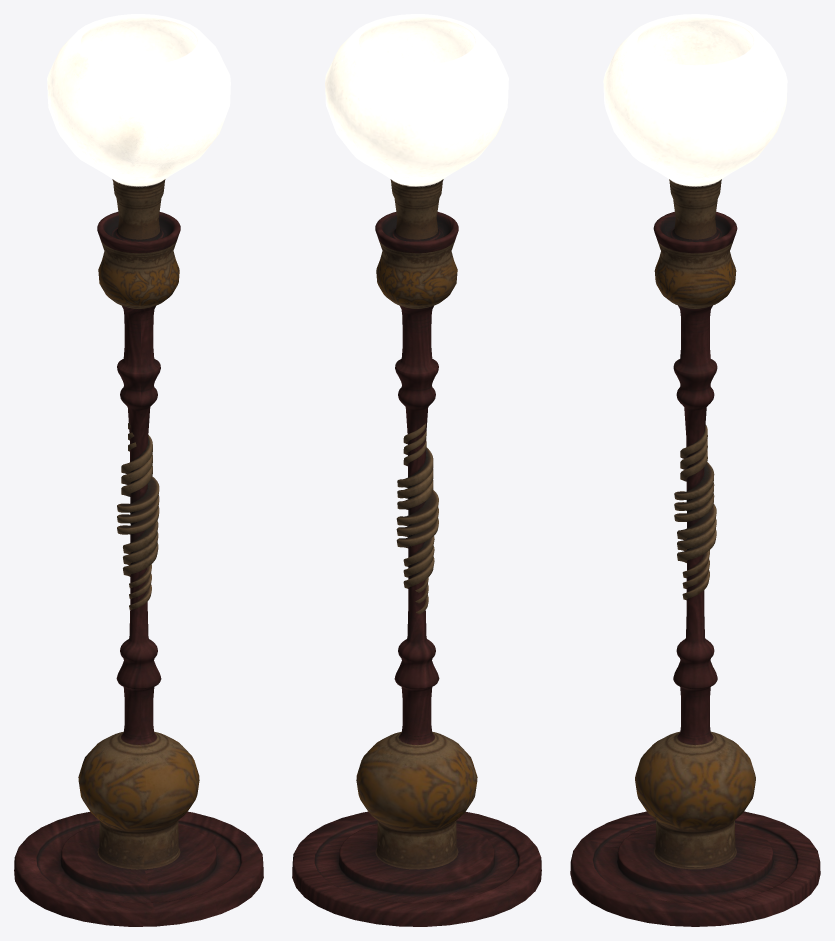
Rendered from FloorLamp.fbx.
3 views of the same model, side by side, from view 1: azimuth 30°, elevation 25°; view 2: azimuth 150°, elevation 25°; view 3: azimuth 270°, elevation 25° (orthographic).
Visible parts, largest first — view 1: Low_Circle.014; view 2: Low_Circle.014; view 3: Low_Circle.014.
Part boxes in pixels (x1,y1,x2,y2): Low_Circle.014: (14,14,263,926); Low_Circle.014: (292,14,541,926); Low_Circle.014: (570,14,820,926).
Bounding box in the file's own units: 54.38 × 200 × 54.38.
